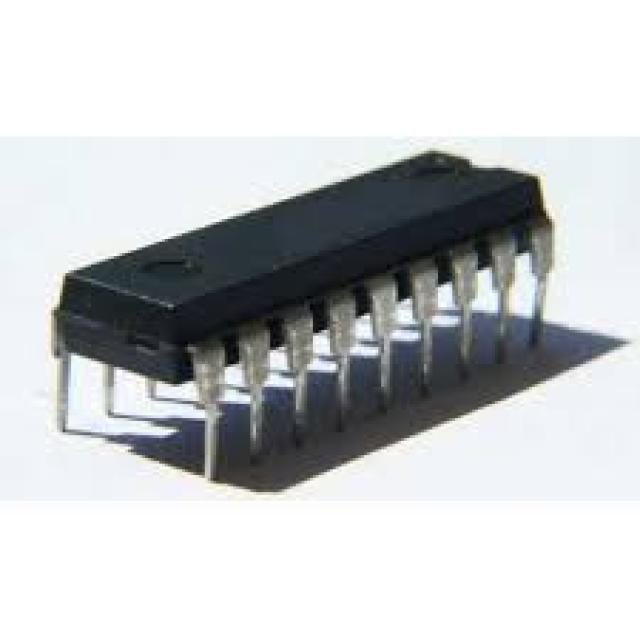IC: (47, 148, 554, 464)
